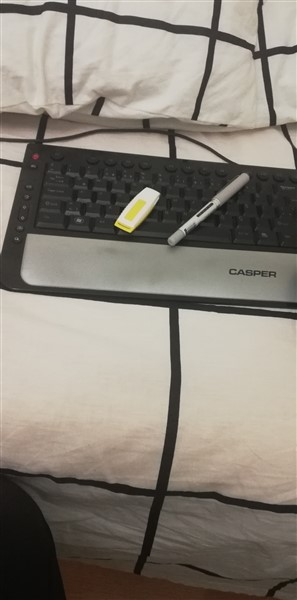flash disk: (111, 185, 164, 241)
klavye: (2, 138, 297, 312)
pilot kalem: (164, 170, 255, 251)
